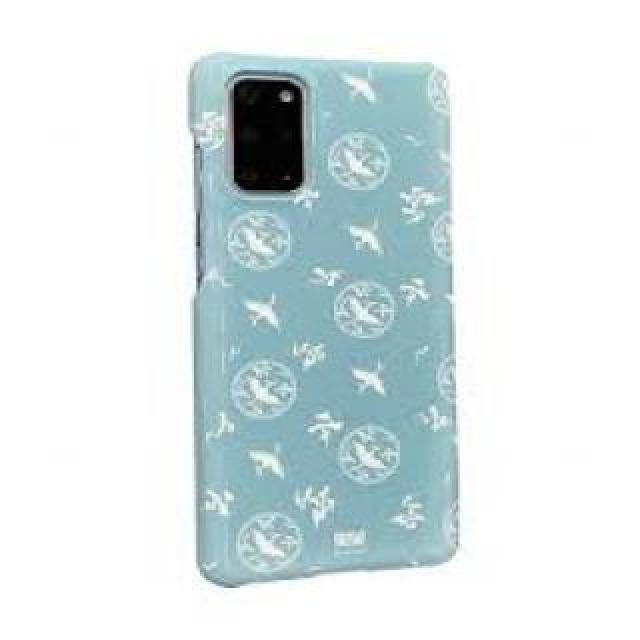smart phone: (162, 18, 480, 580)
